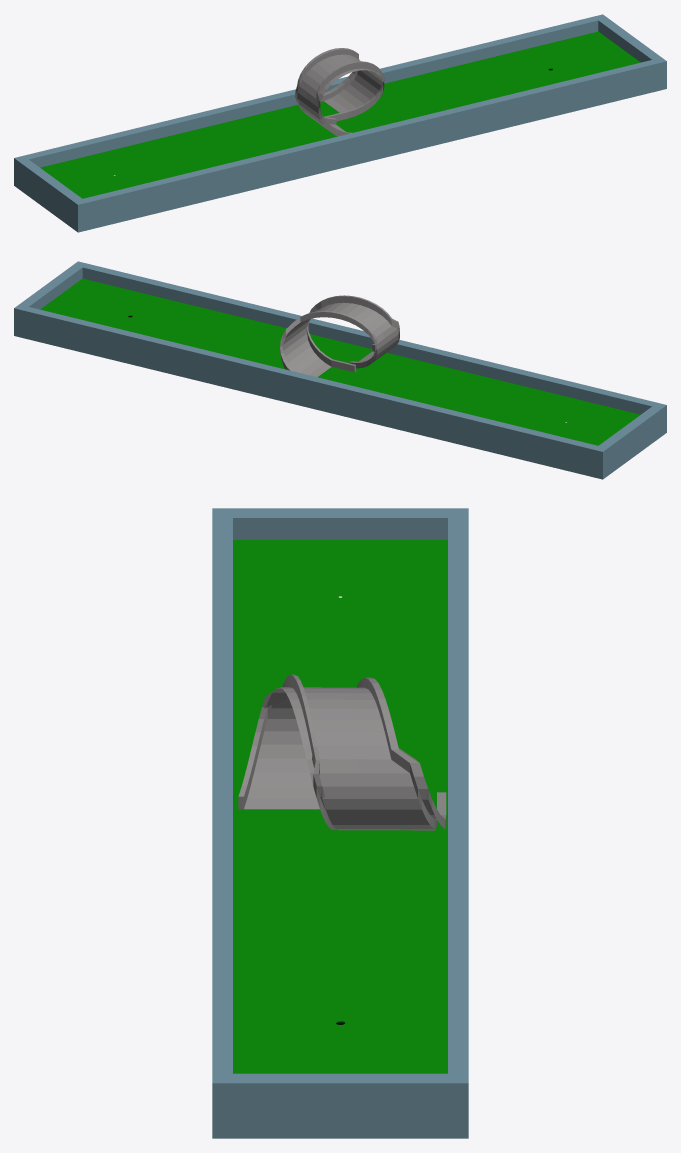
Rendered from loopy.glb.
The picture shows the model from 3 angles, top to bottom: view 1: azimuth 30°, elevation 25°; view 2: azimuth 150°, elevation 25°; view 3: azimuth 270°, elevation 25°; orthographic projection. The views are drawn at different scales.
Visible parts, largest first — view 1: Border, Grass, Loop; view 2: Border, Grass, Loop; view 3: Grass, Border, Loop.
Part boxes in pixels (box(x1,y1,x2,y2)): Border: box(14, 14, 666, 232); Grass: box(40, 31, 640, 198); Loop: box(295, 48, 384, 136); Border: box(14, 261, 666, 479); Grass: box(40, 278, 640, 445); Loop: box(280, 295, 399, 377); Grass: box(233, 540, 447, 1073); Border: box(212, 508, 468, 1138); Loop: box(238, 674, 446, 830).
Size of the model in its own units: 15.41 by 2.03 by 2.91.
